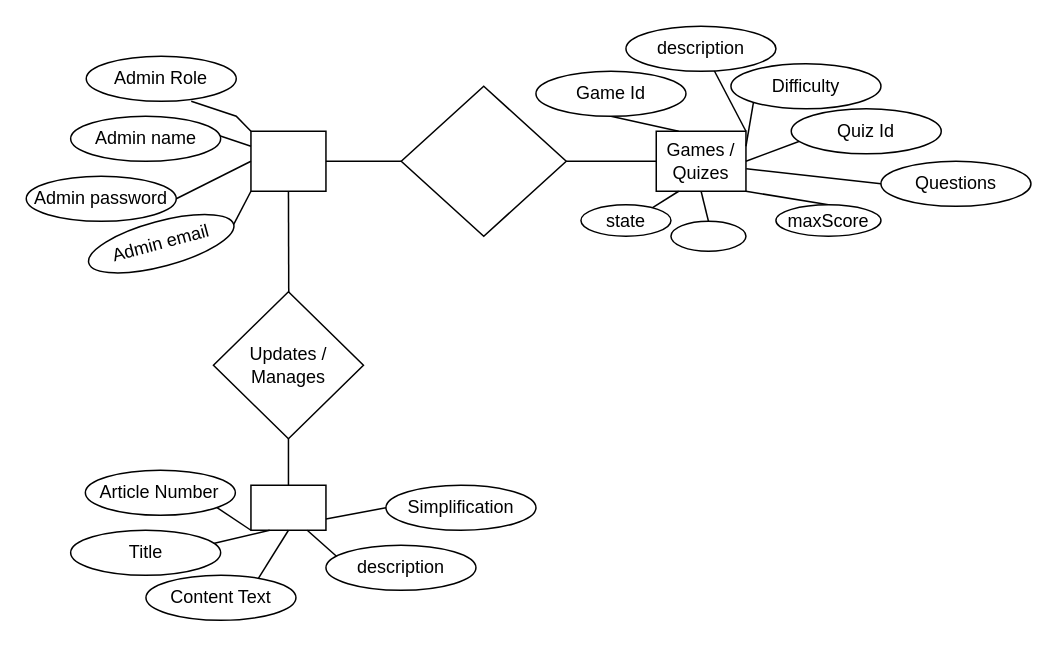
Image size: 1058x647. Some labels were removed from this diagram. The shapes that lost their labels are listed below. From the top down, each one's centre as x and y in pixels, then its label:
At pixel 287 160: "Admin".
At pixel 483 160: "Games / Facts / Daily Tasks".
At pixel 707 235: "type".
At pixel 287 507: "Article".
